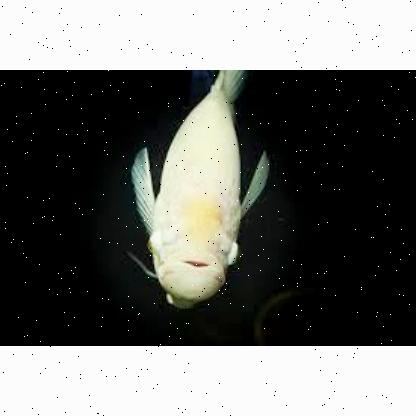gurame: (122, 69, 284, 305)
